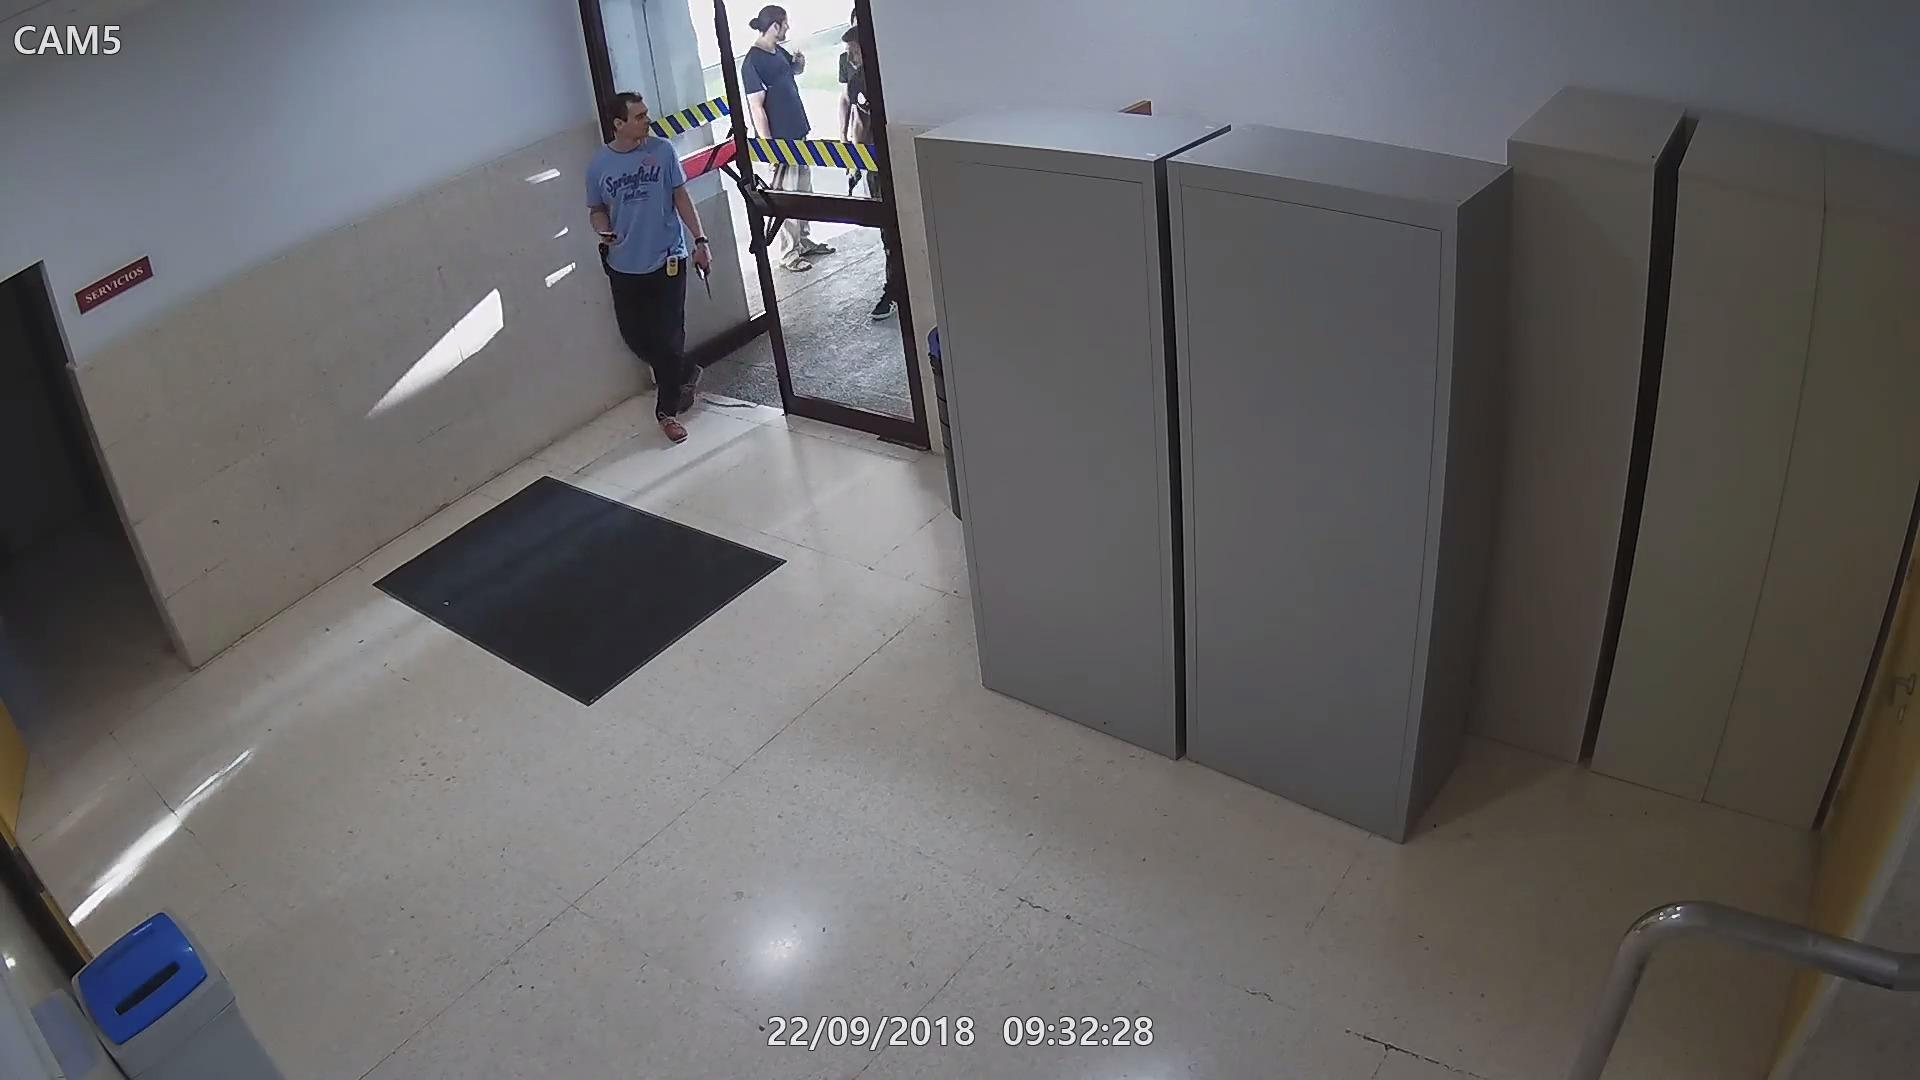Handgun: (692, 235, 719, 301)
